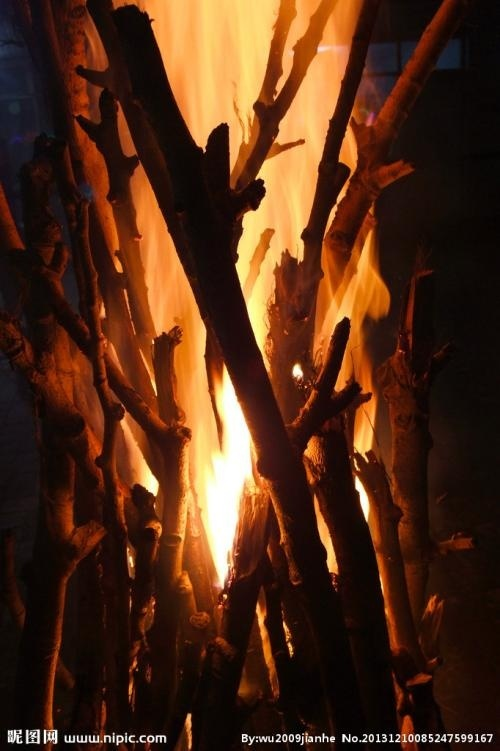fire: (2, 1, 476, 430), (185, 369, 270, 582)
